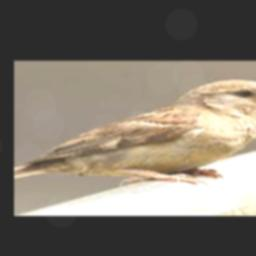Sparrow: (14, 79, 256, 185)
